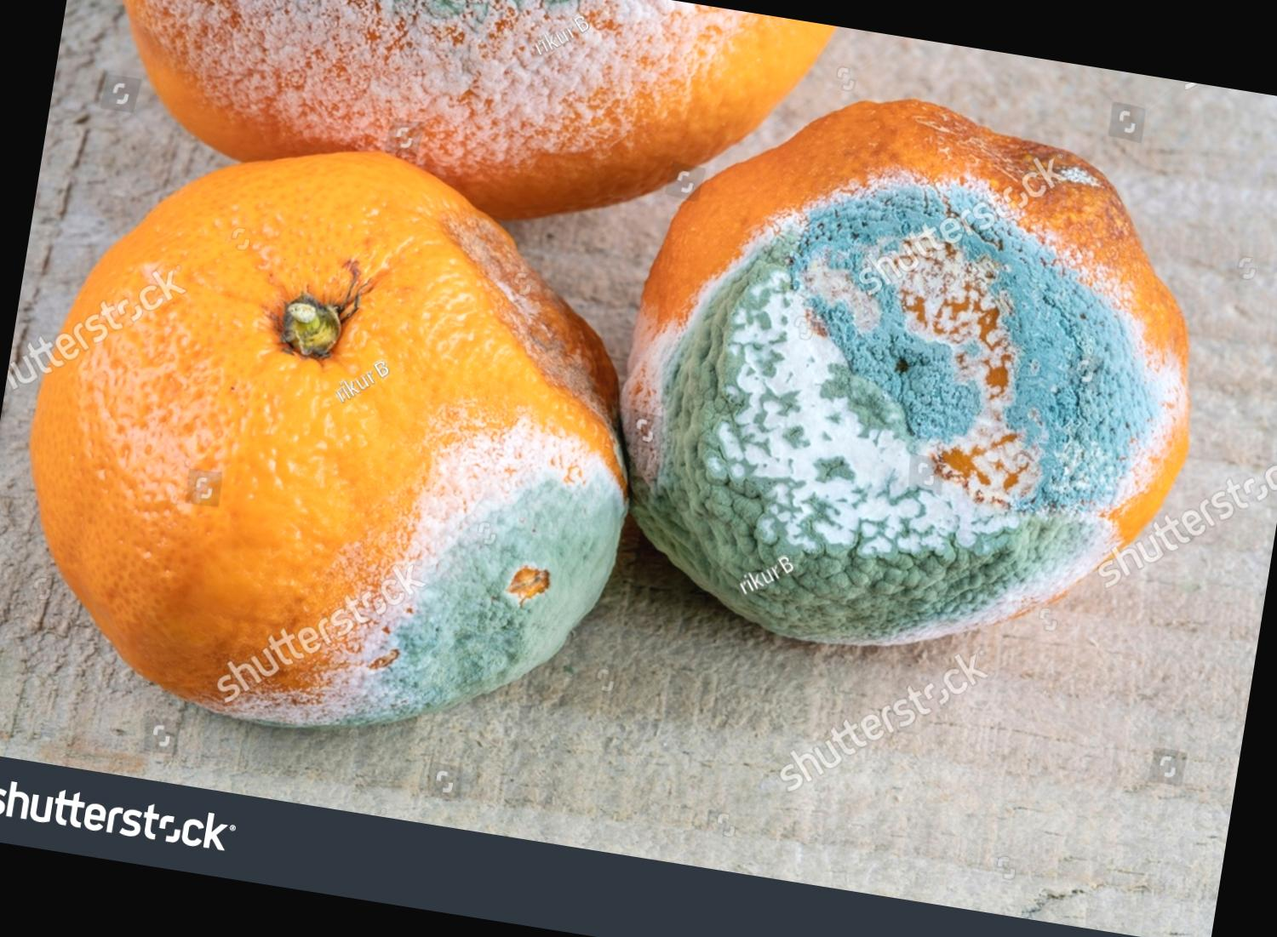Orange Rotten: (0, 79, 719, 810), (570, 60, 1245, 726), (62, 0, 848, 276)
